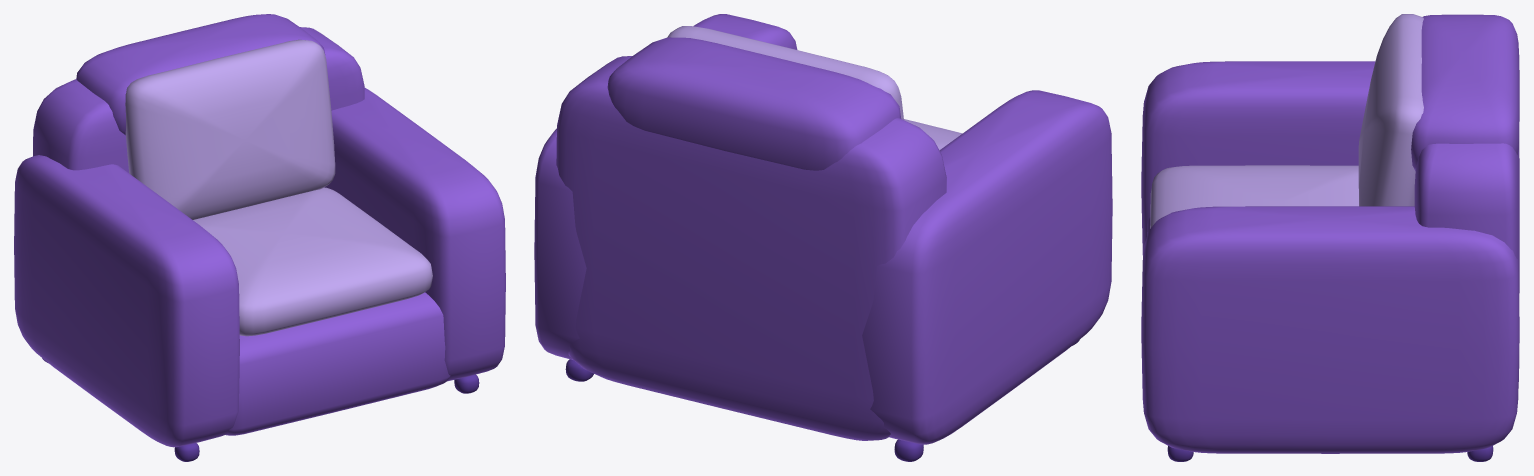
File: poltrona_larga_roxa.glb
The picture shows the model from 3 angles, left to right: view 1: azimuth 30°, elevation 25°; view 2: azimuth 150°, elevation 25°; view 3: azimuth 270°, elevation 25°; orthographic projection. The views are drawn at different scales.
Parts seen in each view (by area): view 1: poltrona_larga_roxa; view 2: poltrona_larga_roxa; view 3: poltrona_larga_roxa.
Boxes of the visible parts, x1,y1,x2,y2 form: poltrona_larga_roxa: [14, 14, 505, 461]; poltrona_larga_roxa: [534, 14, 1112, 461]; poltrona_larga_roxa: [1141, 14, 1519, 461].
Bounding box in the file's own units: 1 × 0.82 × 0.86.
1 material, 1 textured.
